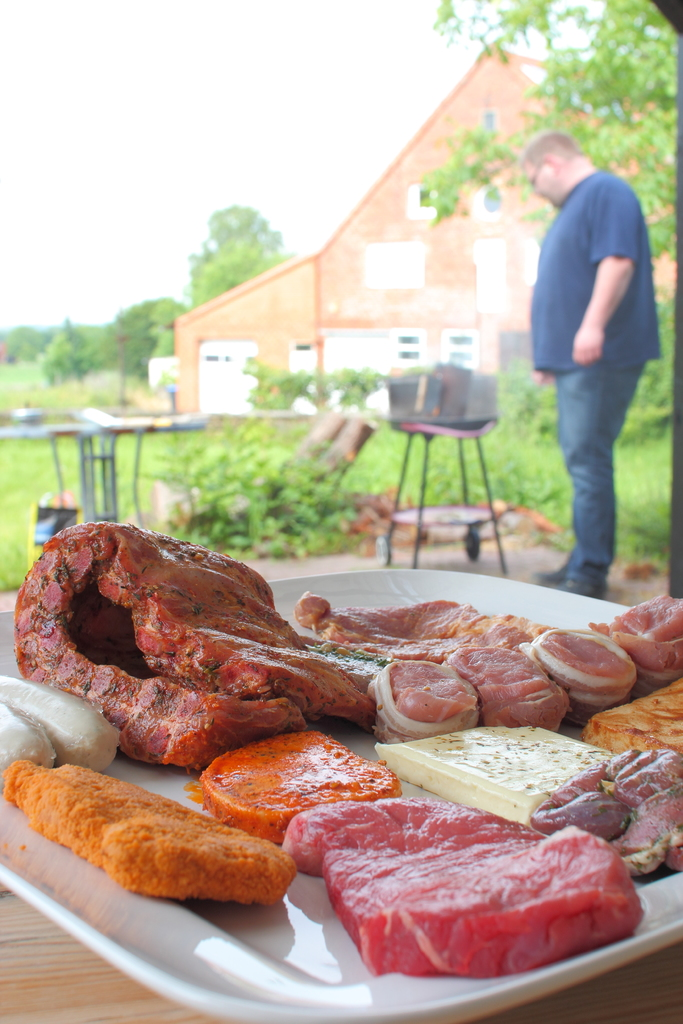Tree: (0, 0, 683, 452)
